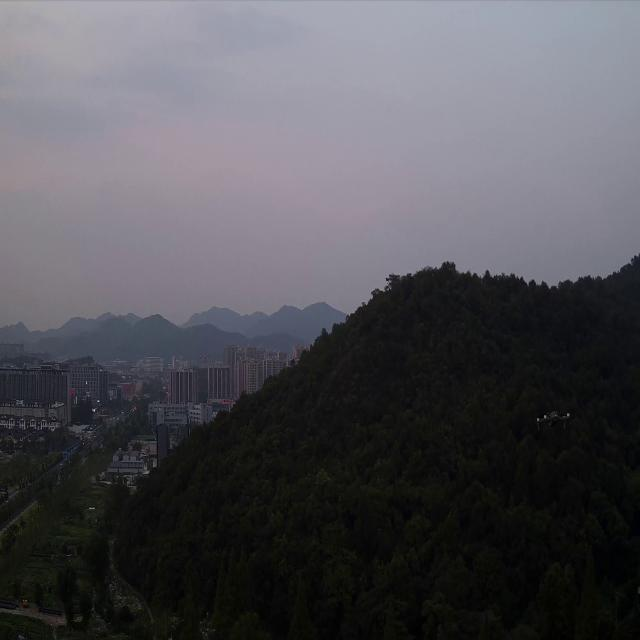UAV: (532, 404, 571, 432)
